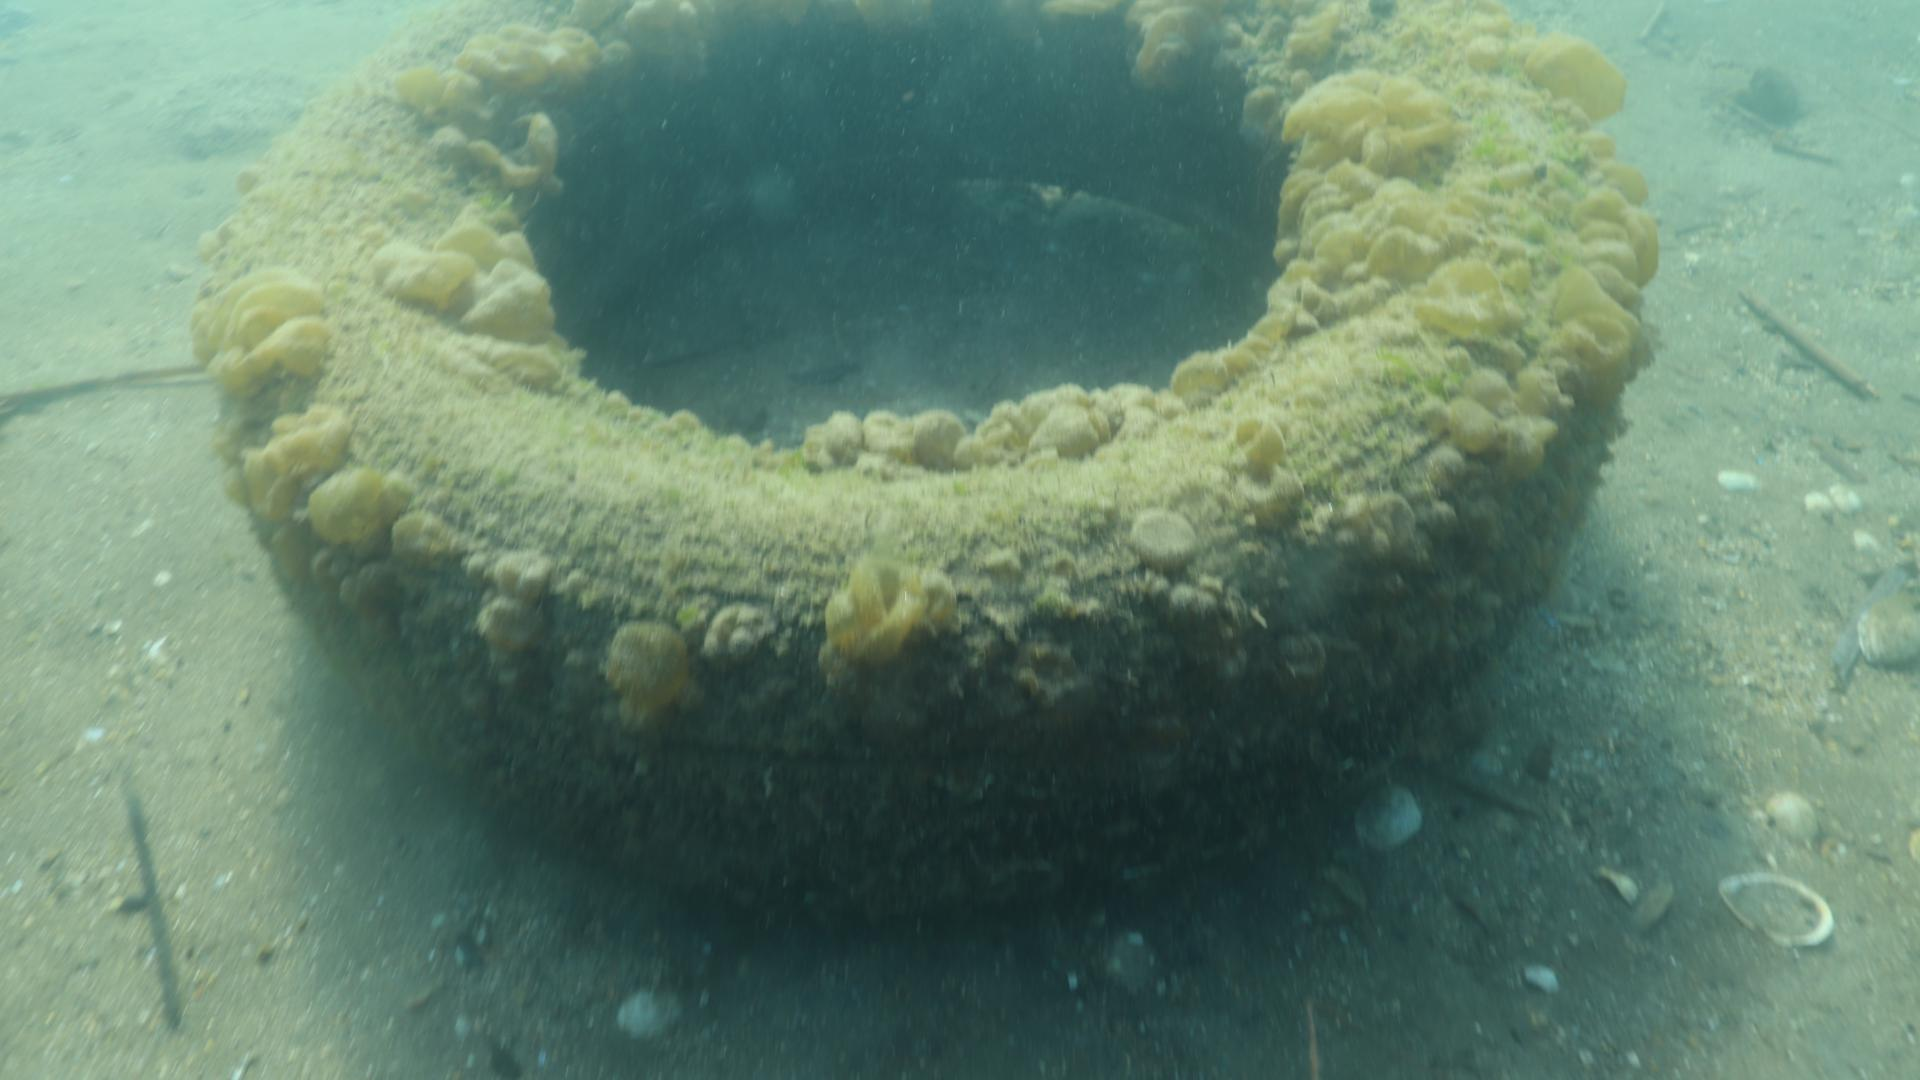tire: (222, 0, 1633, 887)
